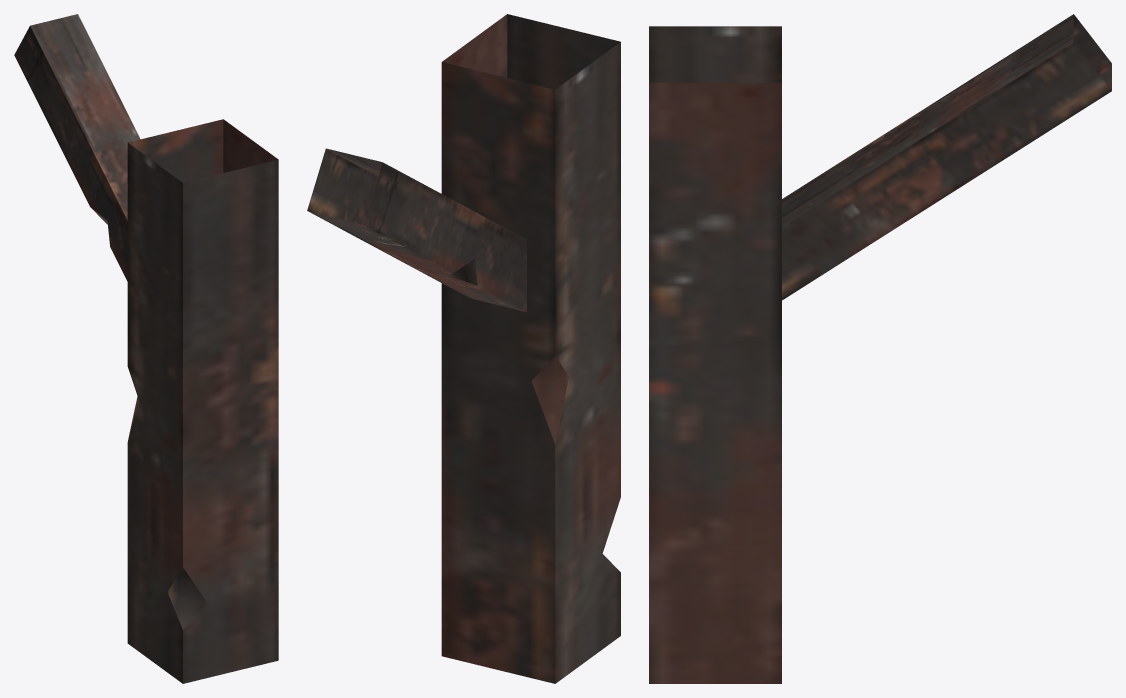
Rendered from Balka.fbx.
3 views of the same model, side by side, from view 1: azimuth 30°, elevation 25°; view 2: azimuth 150°, elevation 25°; view 3: azimuth 270°, elevation 25° (orthographic). The views are drawn at different scales.
Visible parts, largest first — view 1: Balka; view 2: Balka; view 3: Balka.
Part boxes in pixels (x1,y1,x2,y2): Balka: [14, 14, 278, 683]; Balka: [307, 14, 620, 683]; Balka: [649, 14, 1111, 683].
Size of the model in its own units: 200 by 1044 by 697.
